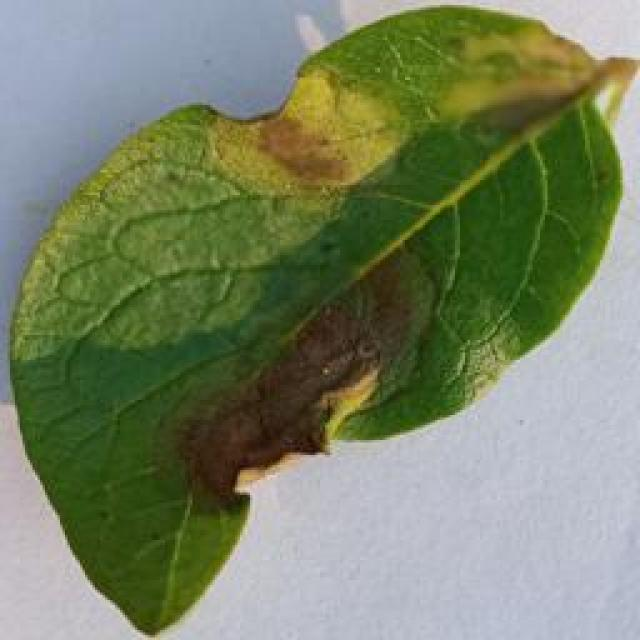Potato_Late_Blight: (16, 10, 624, 638)
